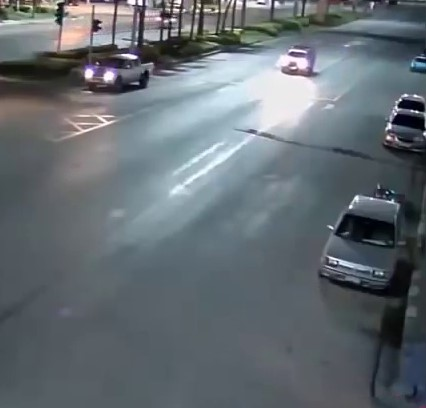car: (320, 186, 405, 295), (377, 91, 426, 152), (85, 52, 155, 93), (280, 42, 316, 77), (411, 52, 426, 75)
